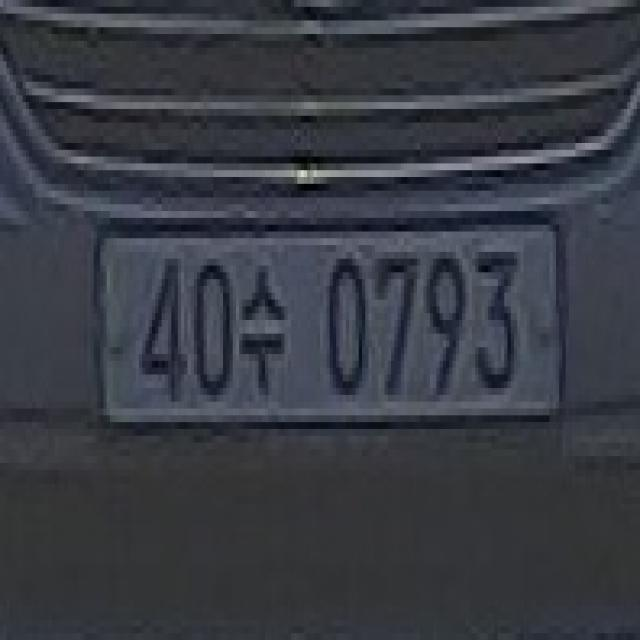0: (320, 245, 368, 402), (191, 252, 236, 402)
3: (469, 245, 520, 395)
4: (130, 252, 188, 402)
7: (372, 245, 423, 395)
9: (420, 245, 466, 402)
license_plate: (90, 211, 562, 429)
su: (239, 266, 288, 408)
